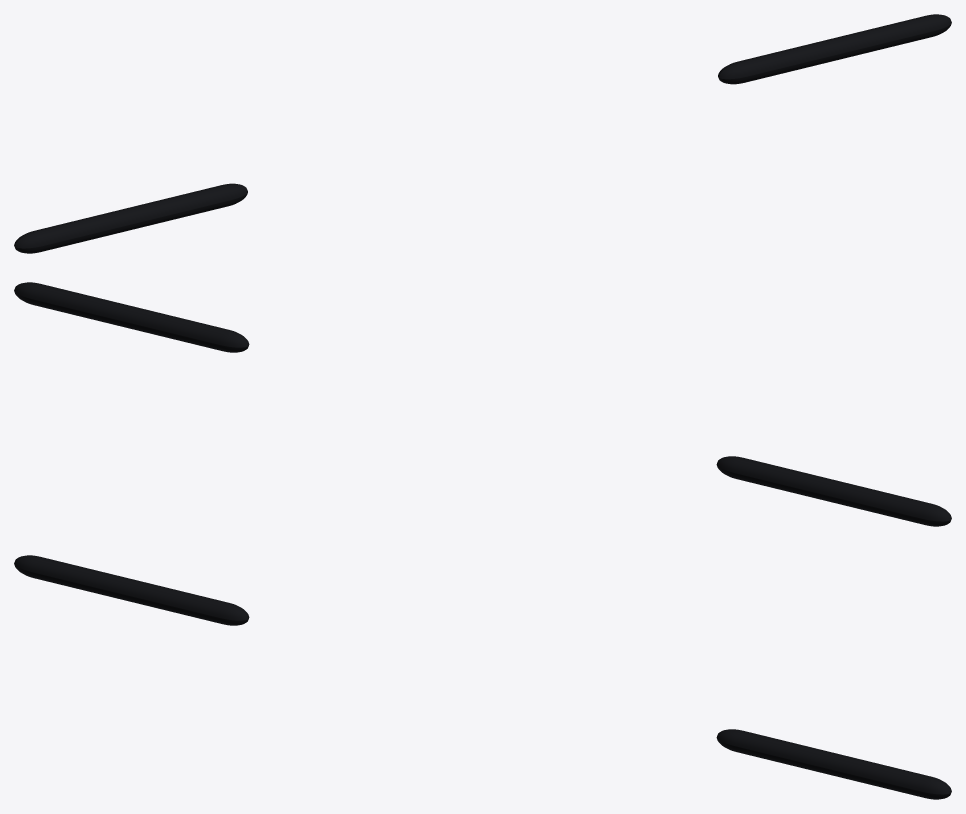
The model's file is eye-narrow.glb.
3 views of the same model, one above another, from view 1: azimuth 30°, elevation 25°; view 2: azimuth 150°, elevation 25°; view 3: azimuth 330°, elevation 25° (orthographic).
Visible parts, largest first — view 1: eye_narrow; view 2: eye_narrow; view 3: eye_narrow.
Boxes of the visible parts, x1,y1,x2,y2 form: eye_narrow: (14, 14, 951, 253); eye_narrow: (14, 282, 951, 526); eye_narrow: (14, 555, 951, 799).
Bounding box in the file's own units: 31.28 × 0.6287 × 0.8528.
Materials: 1 (1 with a texture image).
